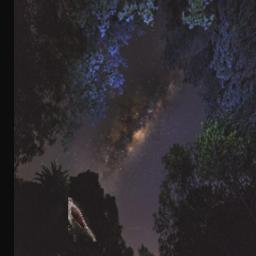Cuckoo: (67, 197, 96, 242)
